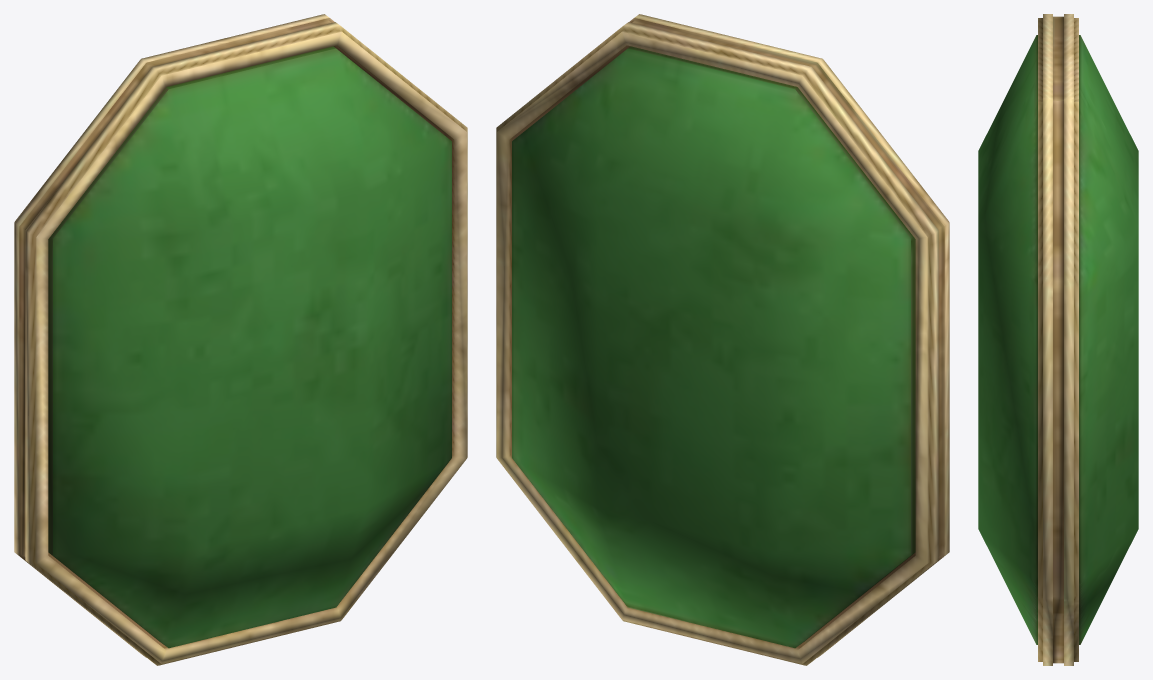
Rendered from gema.glb.
3 renders of one model, left to right at view 1: azimuth 30°, elevation 25°; view 2: azimuth 150°, elevation 25°; view 3: azimuth 270°, elevation 25°, orthographic. The views are drawn at different scales.
Parts seen in each view (by area): view 1: Object_4; view 2: Object_4; view 3: Object_4.
Boxes of the visible parts, left/top/right/bottom form: Object_4: left=14, top=14, right=467, bottom=665; Object_4: left=496, top=14, right=949, bottom=665; Object_4: left=978, top=14, right=1138, bottom=665.
Size of the model in its own units: 1.54 by 2 by 0.512.
Materials: 1 (1 with a texture image).
